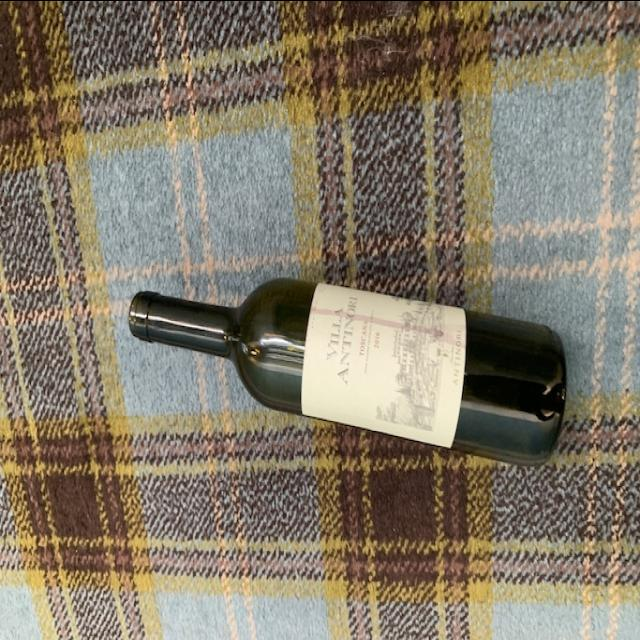Glass Bottle: (124, 274, 568, 468)
